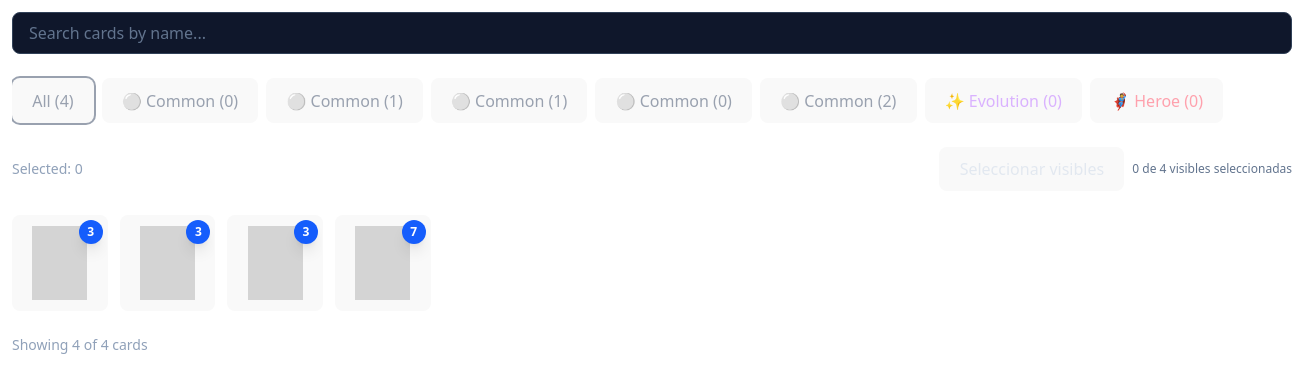
Test case: CardGrid Component › Search › should show no results message when search matches nothing
Type "nonexistent" into the field with placeholder "Search cards by name...". click: (652, 33)
box: 12,12 -> 1292,54
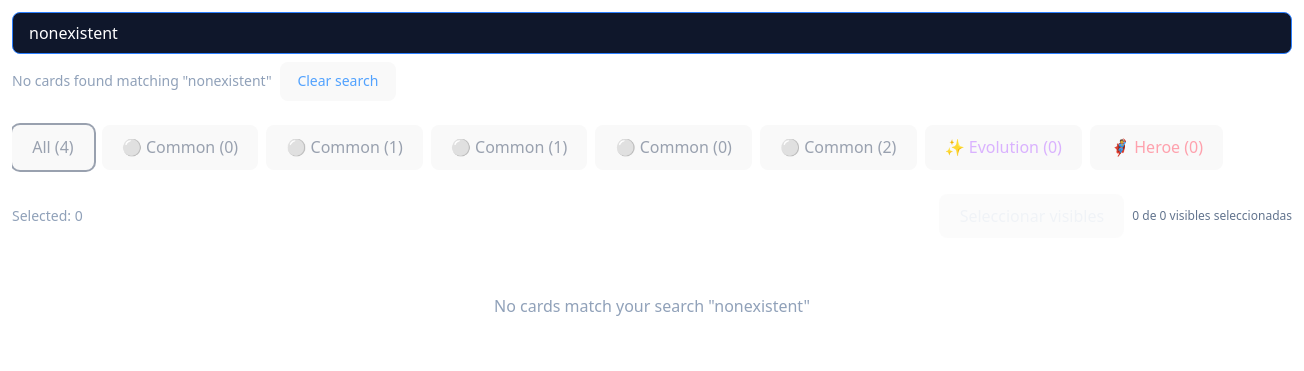
Expected: the text "No cards found matching \"nonexistent\" Clear search" is shown, 12,62 -> 396,101
